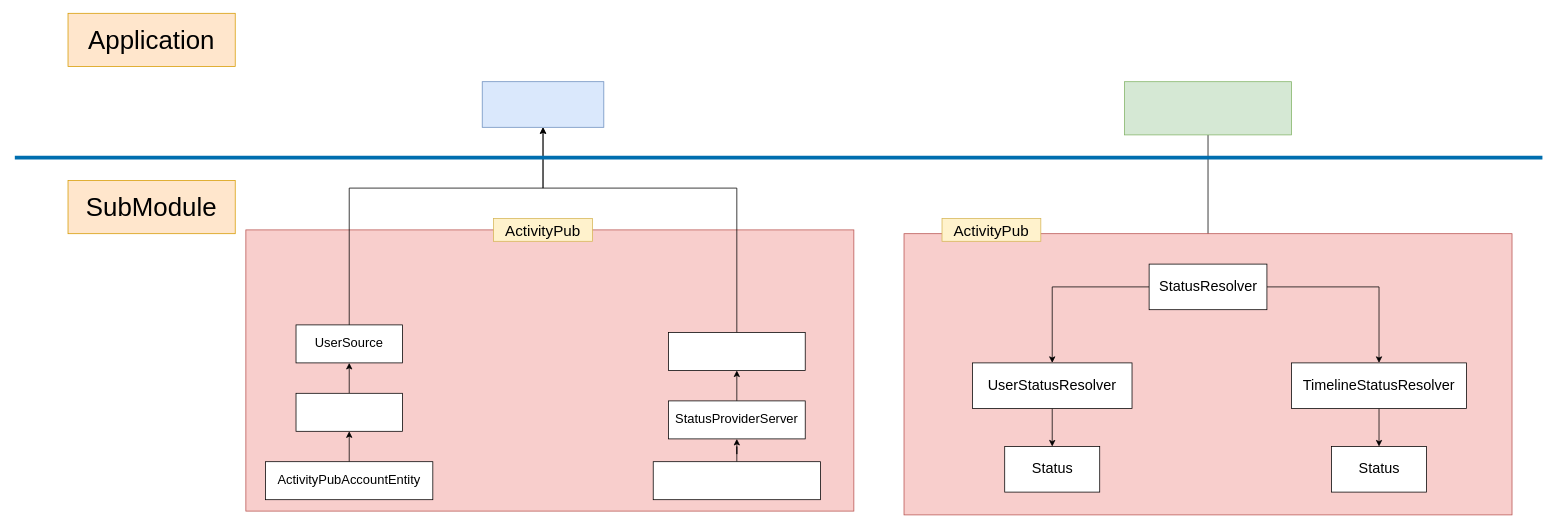
Some shapes in this 1558 by 528 pixel diagram are drawn without their labels. Each missing label, with the centre of its shape:
"ActivityPubInstanceEntity" belongs at (736,480).
"ActivityPubUser" belongs at (348,412).
"StatusSource" belongs at (542,104).
"StatusSourceUri: String" belongs at (1208,108).
"TimelineSource" belongs at (736,351).
